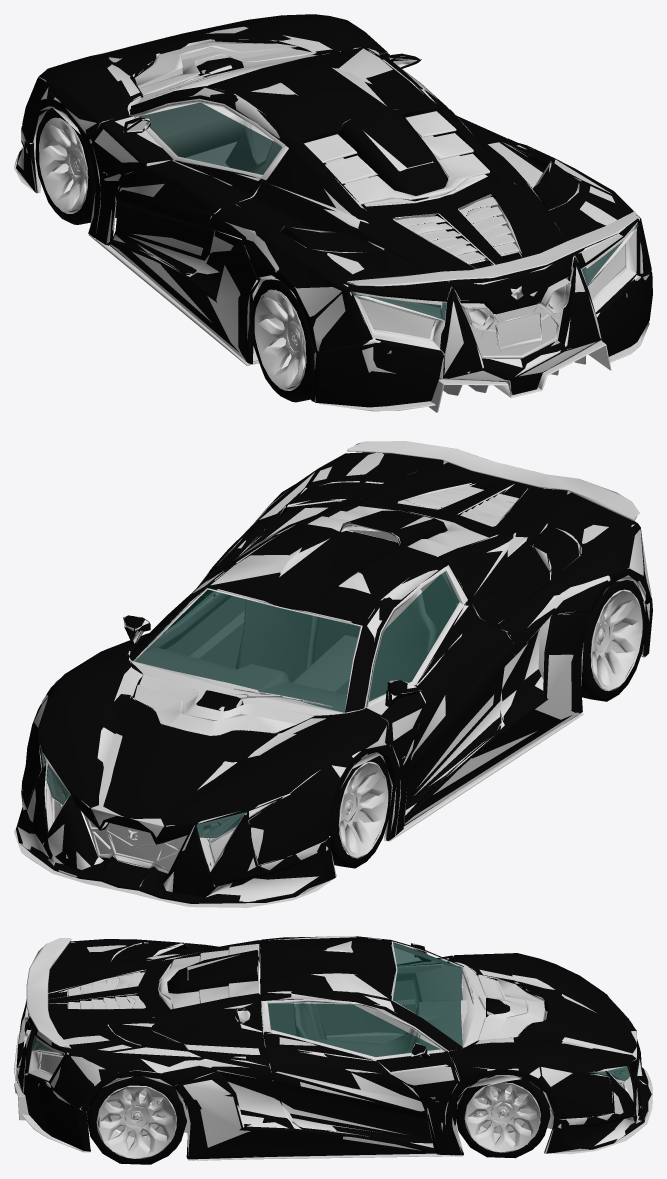
File: goblin_mid.glb
3 renders of one model, top to bottom at view 1: azimuth 30°, elevation 25°; view 2: azimuth 150°, elevation 25°; view 3: azimuth 270°, elevation 25°, orthographic. The views are drawn at different scales.
Visible parts, largest first — view 1: clearcoat, car_body, car_glass, car_wheel_BL, car_wheel_FL; view 2: clearcoat, car_body, car_glass, car_wheel_BL, car_wheel_FL; view 3: clearcoat, car_body, car_glass, car_wheel_BR, car_wheel_FR.
Boxes of the visible parts, x1,y1,x2,y2 form: clearcoat: (16, 14, 652, 407); car_body: (14, 26, 651, 412); car_glass: (139, 102, 638, 320); car_wheel_BL: (250, 279, 315, 402); car_wheel_FL: (35, 108, 117, 224); clearcoat: (16, 452, 652, 903); car_body: (14, 441, 651, 907); car_glass: (40, 572, 459, 837); car_wheel_BL: (539, 580, 646, 701); car_wheel_FL: (330, 755, 391, 868); clearcoat: (16, 936, 651, 1159); car_body: (14, 936, 652, 1160); car_glass: (31, 942, 630, 1081); car_wheel_BR: (86, 1076, 186, 1164); car_wheel_FR: (456, 1079, 550, 1158).
Bounding box in the file's own units: 0.0565 × 0.0301 × 0.118.
